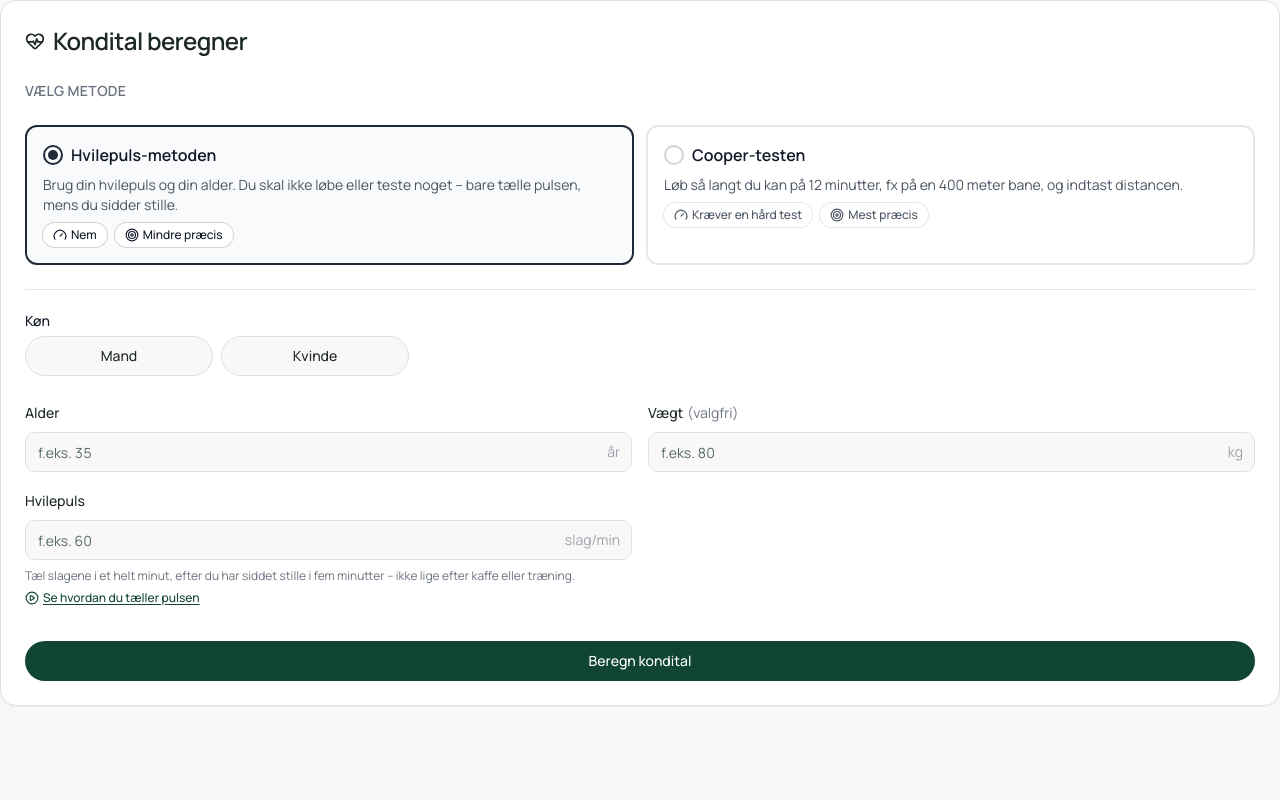
Scenario: KonditalCalculator › points at the empty fields instead of blocking the button
Click the button "Beregn kondital": (640, 661) 25,641 -> 1255,681
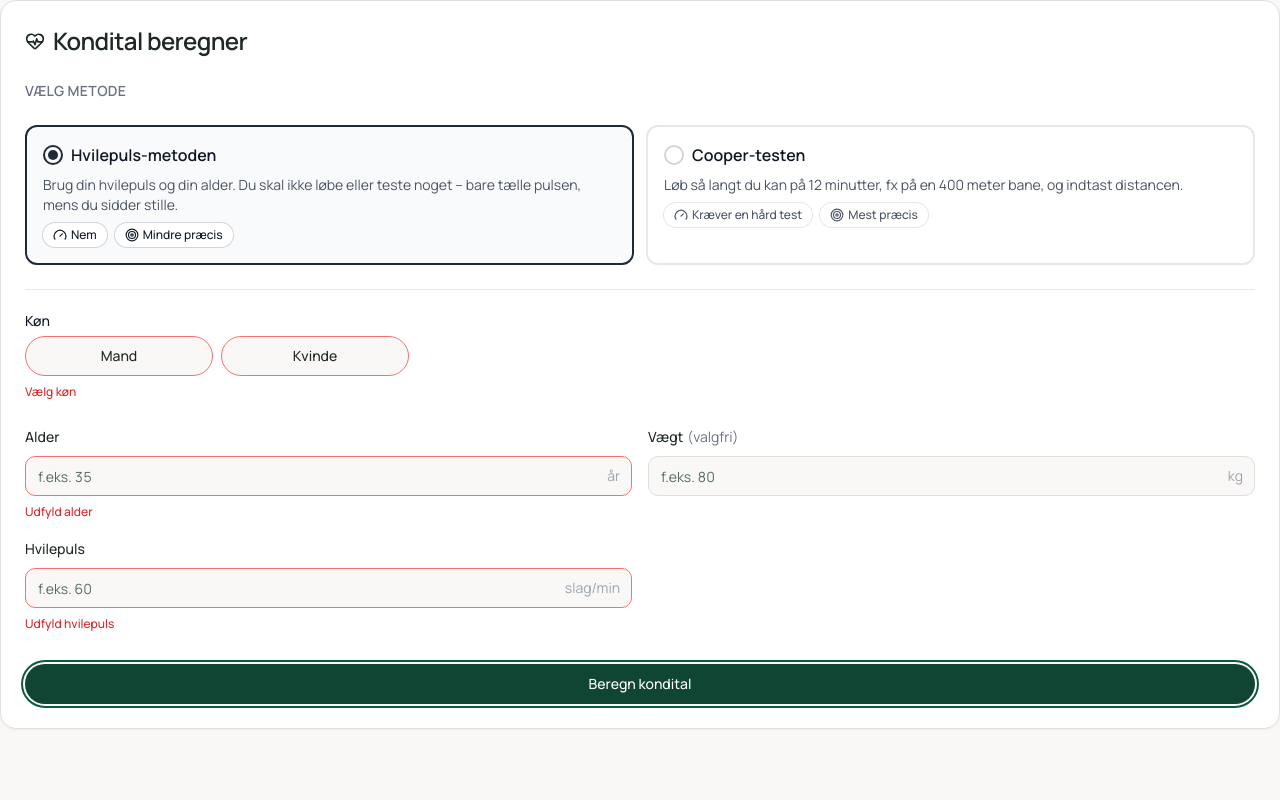
Now the text "Vælg køn" is shown, box 25,383 -> 76,400
Now the text "Udfyld alder" is shown, box 25,503 -> 93,520
Now the text "Udfyld hvilepuls" is shown, box 25,615 -> 114,632
// Answering a field clears its own message without touching the others.
Click the button "Mand": (119, 356) 25,336 -> 213,376
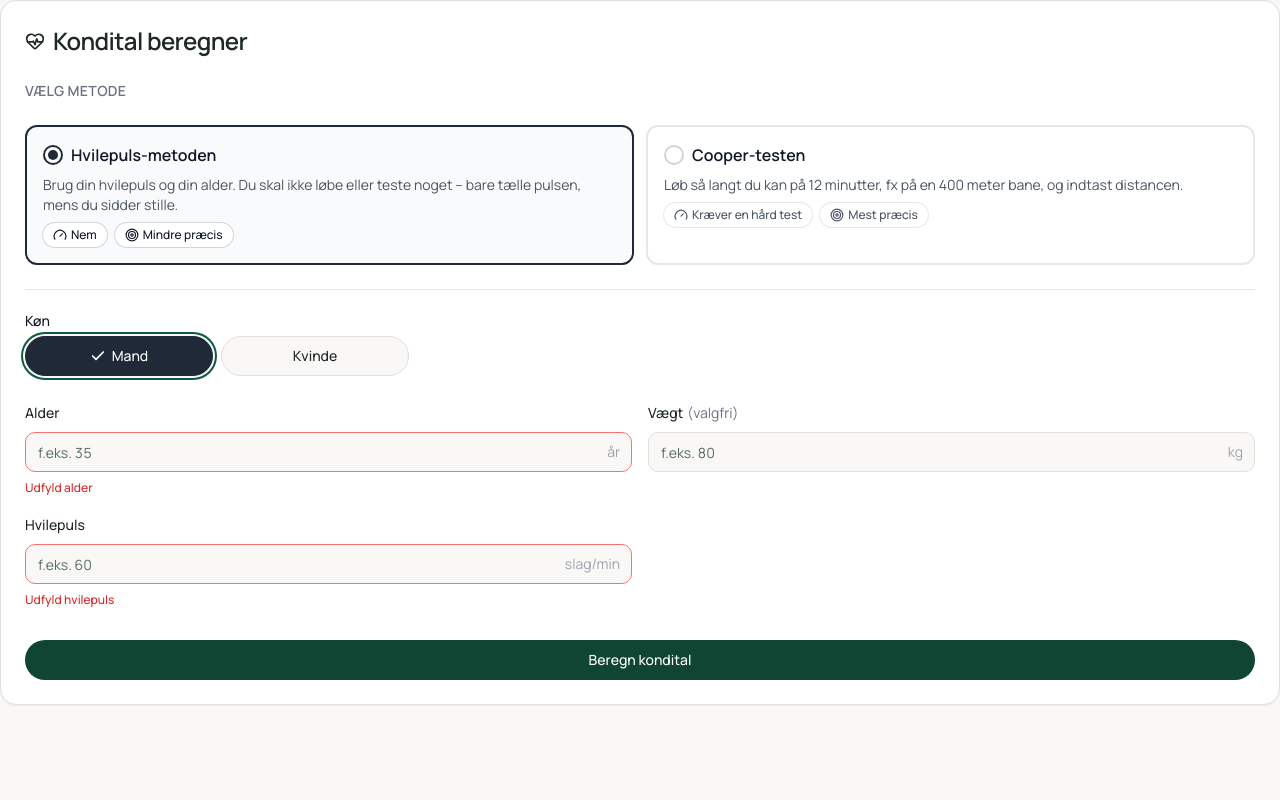
Now the text "Udfyld alder" is shown, box 25,479 -> 93,496
Now the text "Vælg køn" is gone
